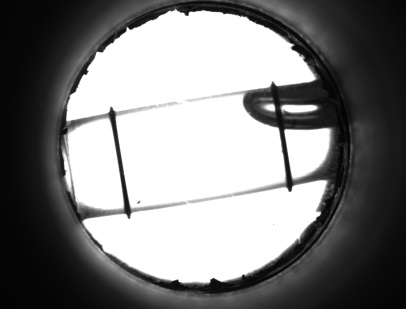line: (108, 131, 133, 201), (274, 137, 297, 174)
